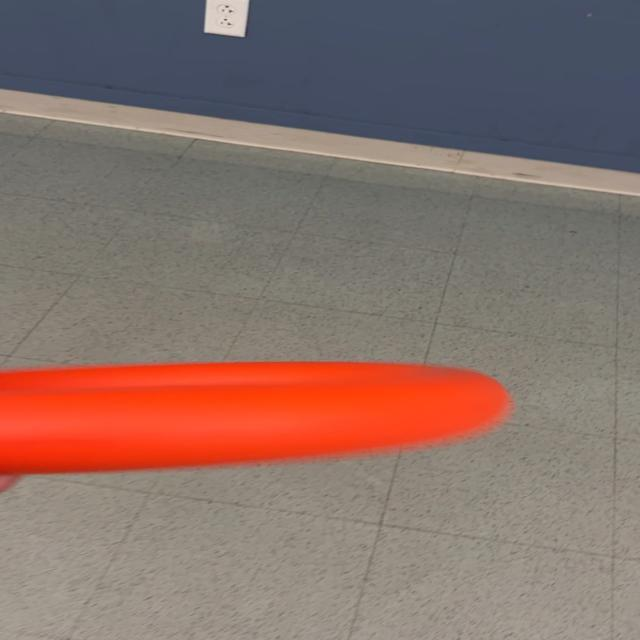note: (2, 358, 517, 481)
